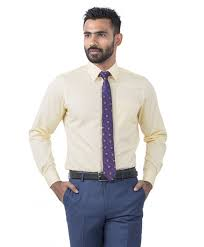F_belt: (63, 164, 143, 184)
F_dress pants: (62, 178, 144, 247)
F_shirt: (27, 59, 170, 187)
